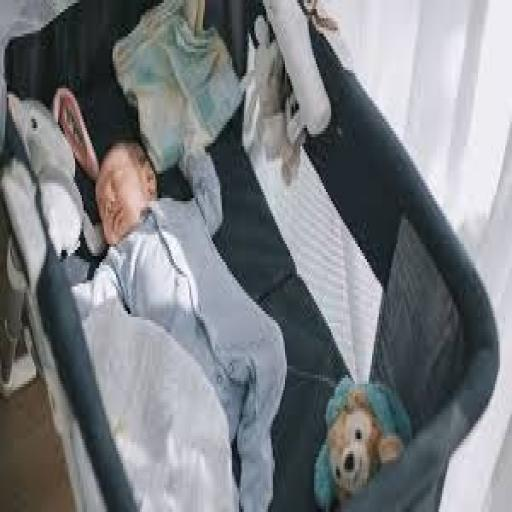baby: (72, 141, 288, 511)
crib: (299, 28, 500, 511)
